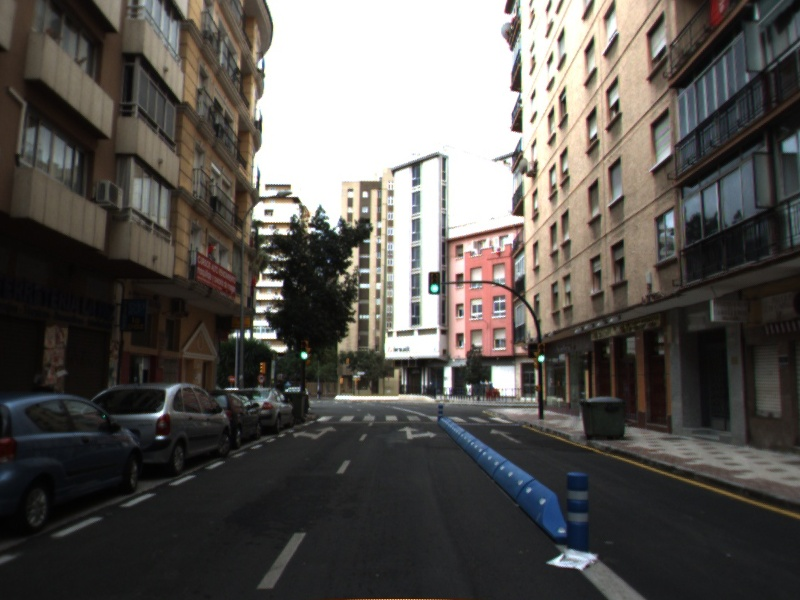STRAIGHT: (489, 427, 524, 445)
STRAIGHT_LEFT: (291, 424, 338, 441)
STRAIGHT_RIGHT: (396, 424, 438, 441)
